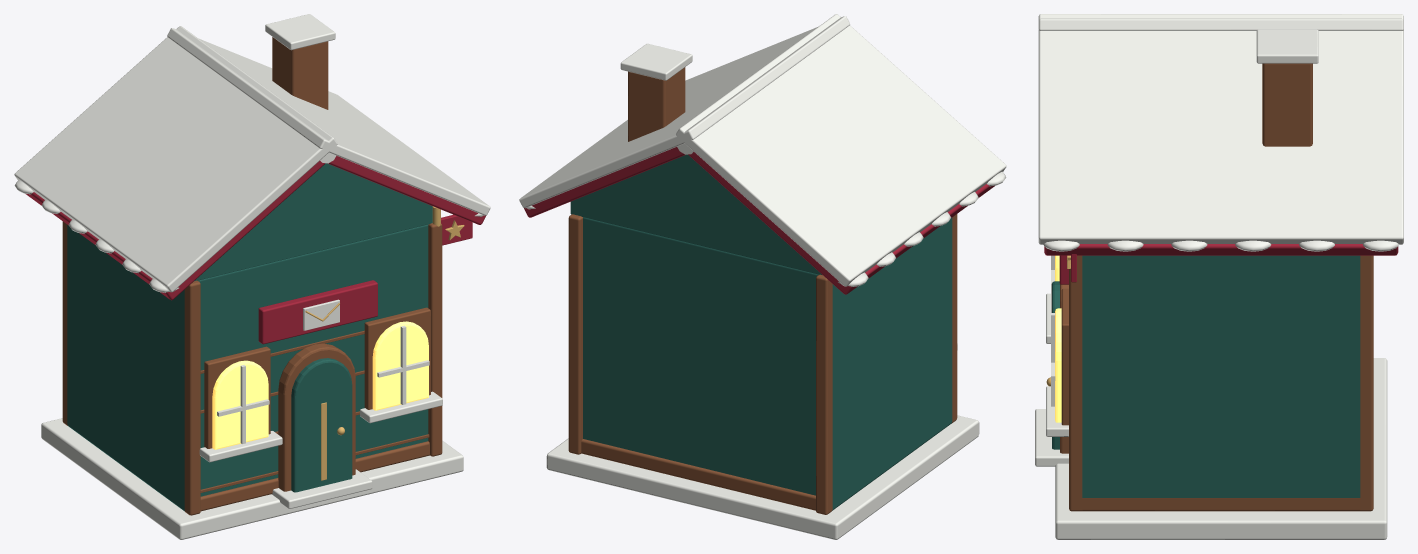
File: postoffice.glb
The picture shows the model from 3 angles, left to right: view 1: azimuth 30°, elevation 25°; view 2: azimuth 150°, elevation 25°; view 3: azimuth 270°, elevation 25°; orthographic projection. The views are drawn at different scales.
Visible parts, largest first — view 1: cream, pine, oak, berry, light, brass; view 2: pine, cream, oak, berry; view 3: cream, pine, oak, berry, light.
Part boxes in pixels (<box>): cream: <box>14,14,490,539</box>; pine: <box>67,163,432,511</box>; oak: <box>62,37,442,515</box>; berry: <box>25,155,485,344</box>; light: <box>212,321,428,449</box>; brass: <box>305,206,464,480</box>; pine: <box>570,154,952,510</box>; cream: <box>519,14,1006,539</box>; oak: <box>568,67,957,514</box>; berry: <box>524,147,994,294</box>; cream: <box>1035,14,1403,539</box>; pine: <box>1052,255,1360,497</box>; oak: <box>1060,63,1373,511</box>; berry: <box>1044,244,1398,284</box>; light: <box>1055,255,1061,422</box>.
Bounding box in the file's own units: 3.19 × 3.52 × 2.55.
